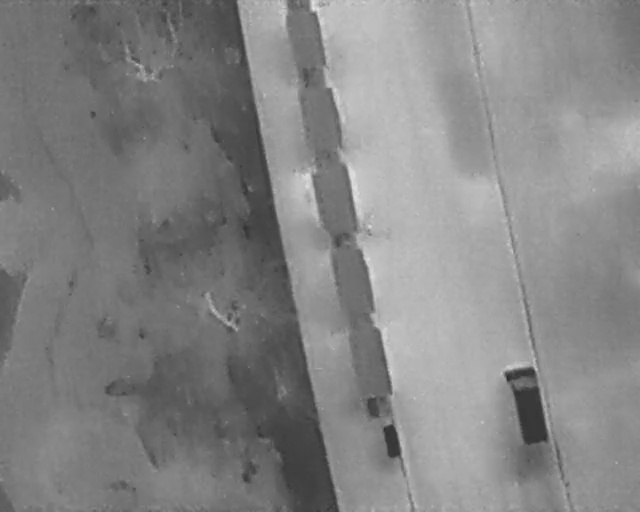OtherVehicle: (501, 361, 552, 450)
